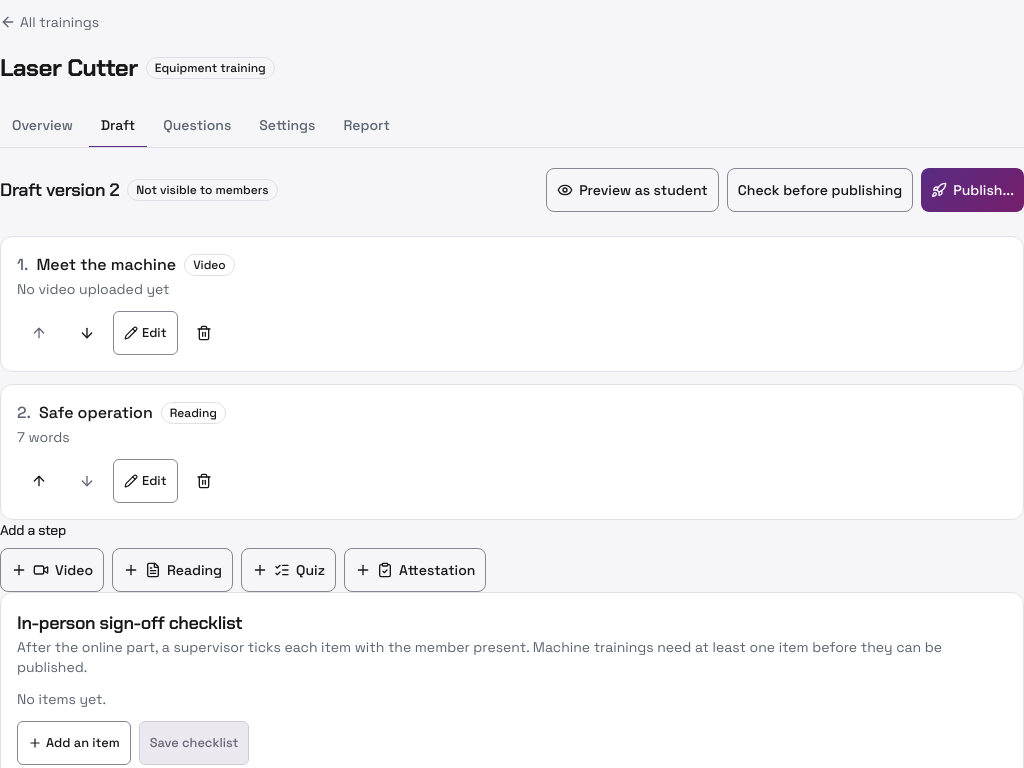
Test: DraftEditor publishing and permissions › lets someone who can publish open the publish dialog
The width and height of the screenshot is (1024, 768).
Expected: the heading "Laser Cutter" is shown, [0,52,138,84]
Expected: the heading "Draft version 2" is shown, [0,176,119,204]
Step 1. Click the button "Publish..." → (973, 190), box [921,168,1023,212]
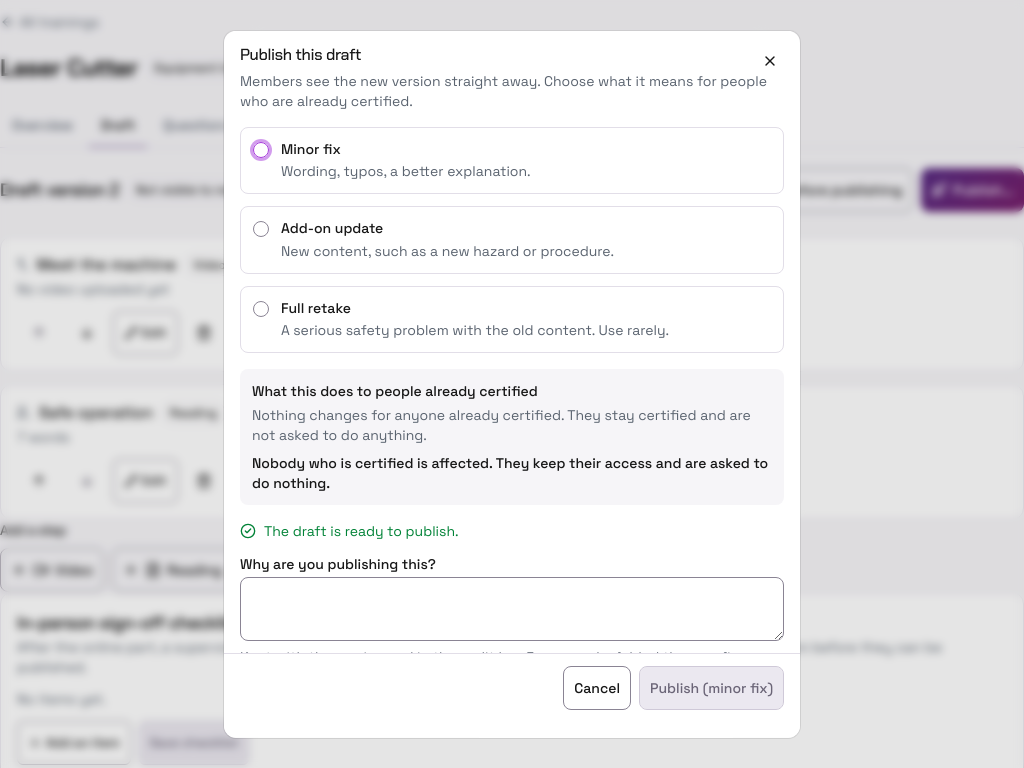
Now the dialog "Publish this draft" is shown, box [224,31,800,737]
